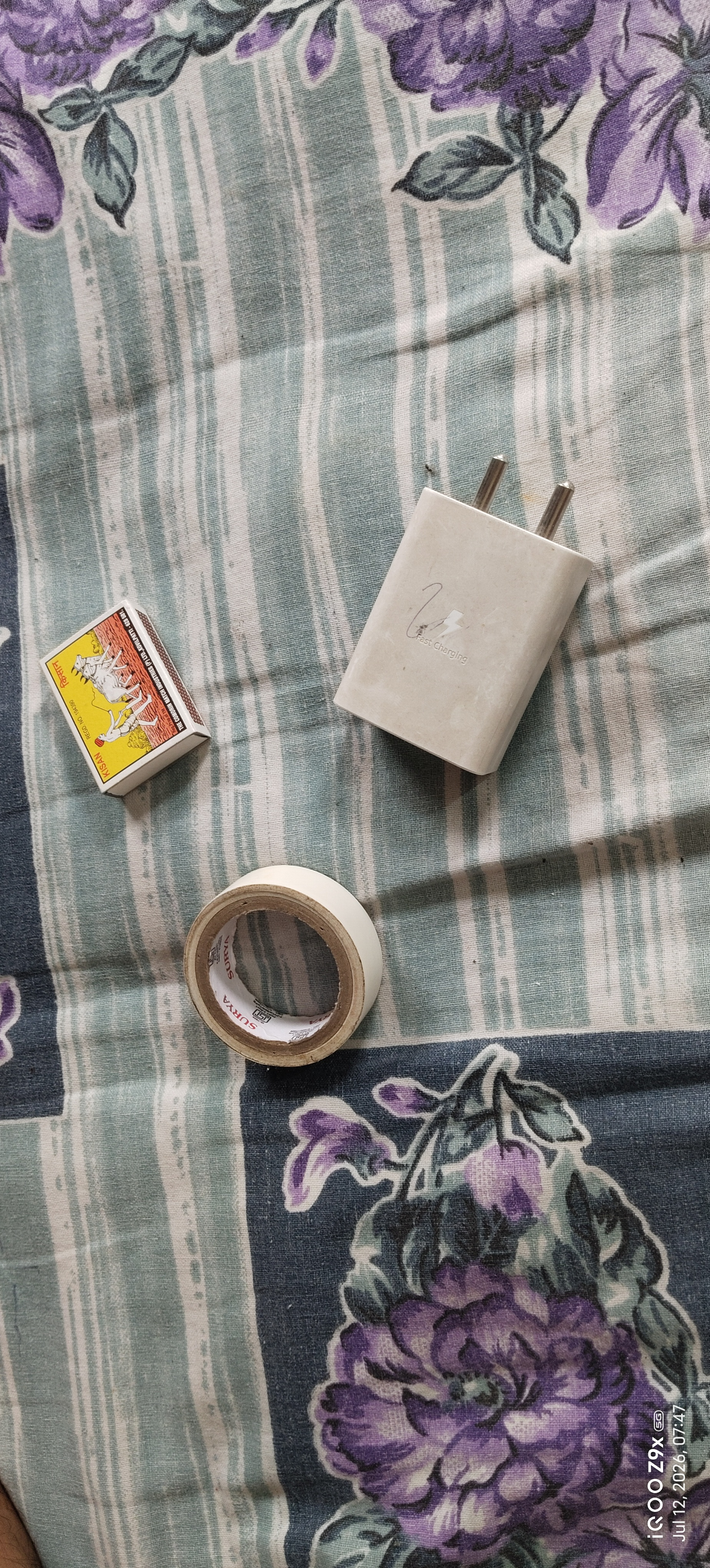charger: (326, 460, 605, 798)
matchbox: (35, 597, 231, 808)
tape_roll: (180, 850, 391, 1094)
